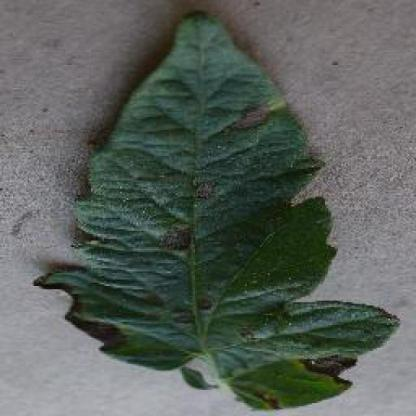Tomato_Blight: (31, 13, 398, 408)
